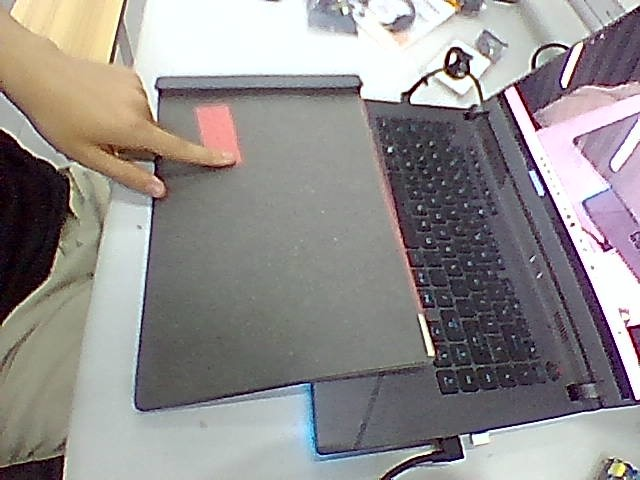card: (196, 105, 241, 163)
